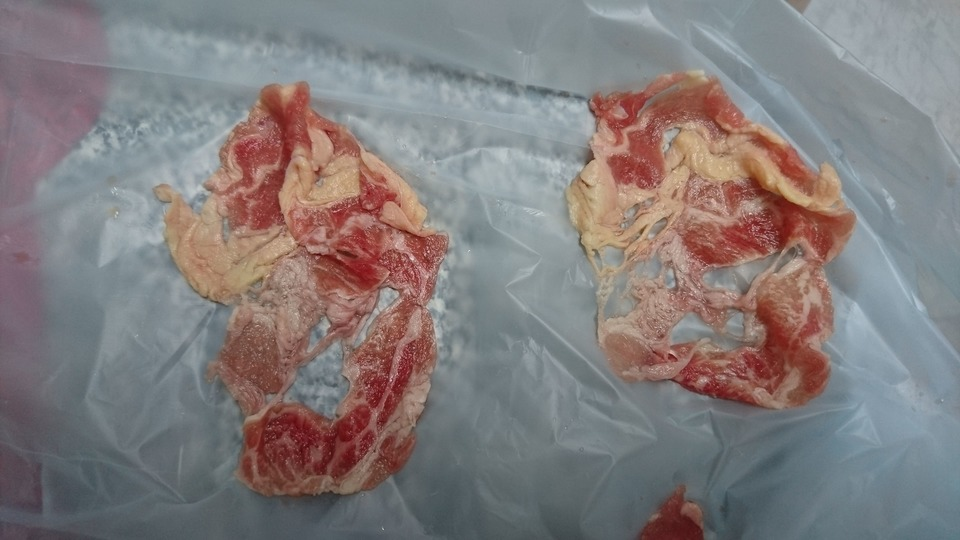restructured meat: (171, 52, 445, 487), (583, 55, 844, 417)
